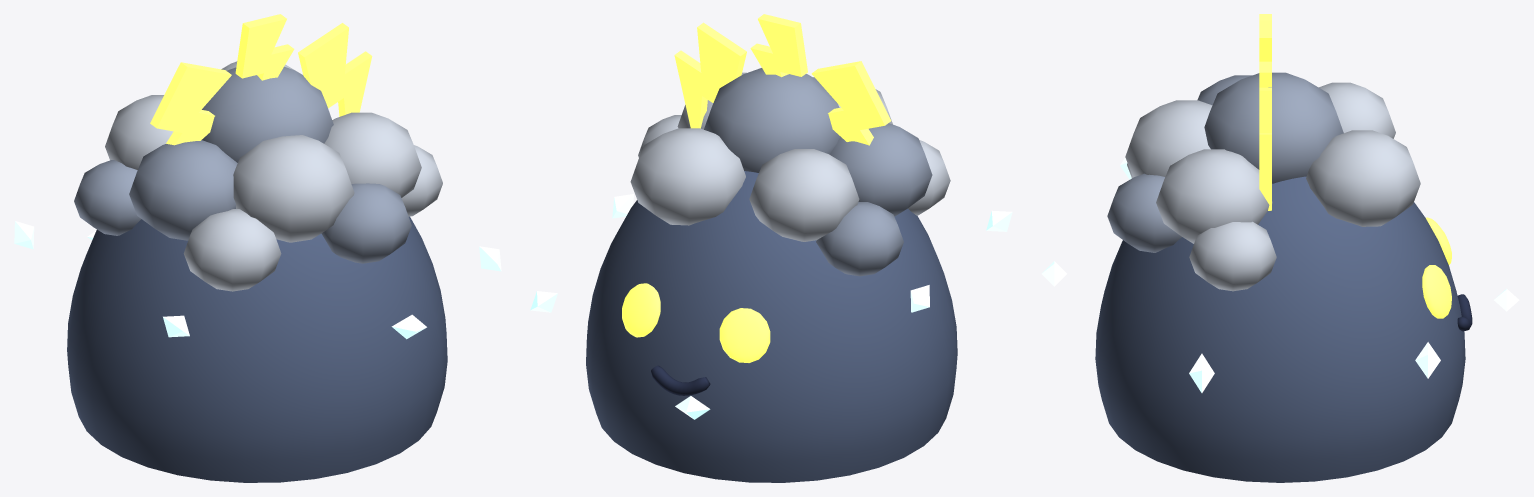
File: Thunder.glb
3 views of the same model, side by side, from view 1: azimuth 30°, elevation 25°; view 2: azimuth 150°, elevation 25°; view 3: azimuth 270°, elevation 25° (orthographic). The views are drawn at different scales.
Visible parts, largest first — view 1: Body, Cloud, CloudDark, Bolts, Sparks; view 2: Body, CloudDark, Cloud, Bolts, Eyes, Sparks, Mouth; view 3: Body, Cloud, CloudDark, Bolts, Sparks, Eyes.
Boxes of the visible parts, x1,y1,x2,y2 form: Body: [67, 216, 447, 482]; Cloud: [105, 61, 442, 291]; CloudDark: [74, 66, 411, 263]; Bolts: [150, 14, 372, 145]; Sparks: [14, 221, 501, 339]; Body: [586, 171, 957, 482]; CloudDark: [704, 68, 932, 276]; Cloud: [630, 72, 950, 241]; Bolts: [674, 14, 891, 145]; Eyes: [622, 283, 770, 362]; Sparks: [530, 194, 1012, 419]; Mouth: [651, 365, 710, 395]; Body: [1095, 176, 1465, 482]; Cloud: [1125, 82, 1420, 291]; CloudDark: [1107, 72, 1343, 252]; Bolts: [1259, 14, 1271, 210]; Sparks: [1041, 157, 1519, 392]; Eyes: [1422, 217, 1451, 318].
Bounding box in the file's own units: 7.99 × 7.36 × 8.39.
